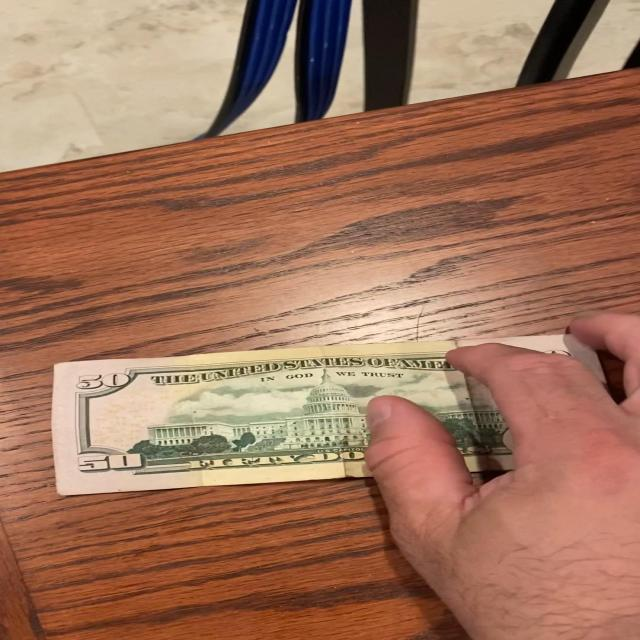50-Back: (46, 334, 614, 504)
